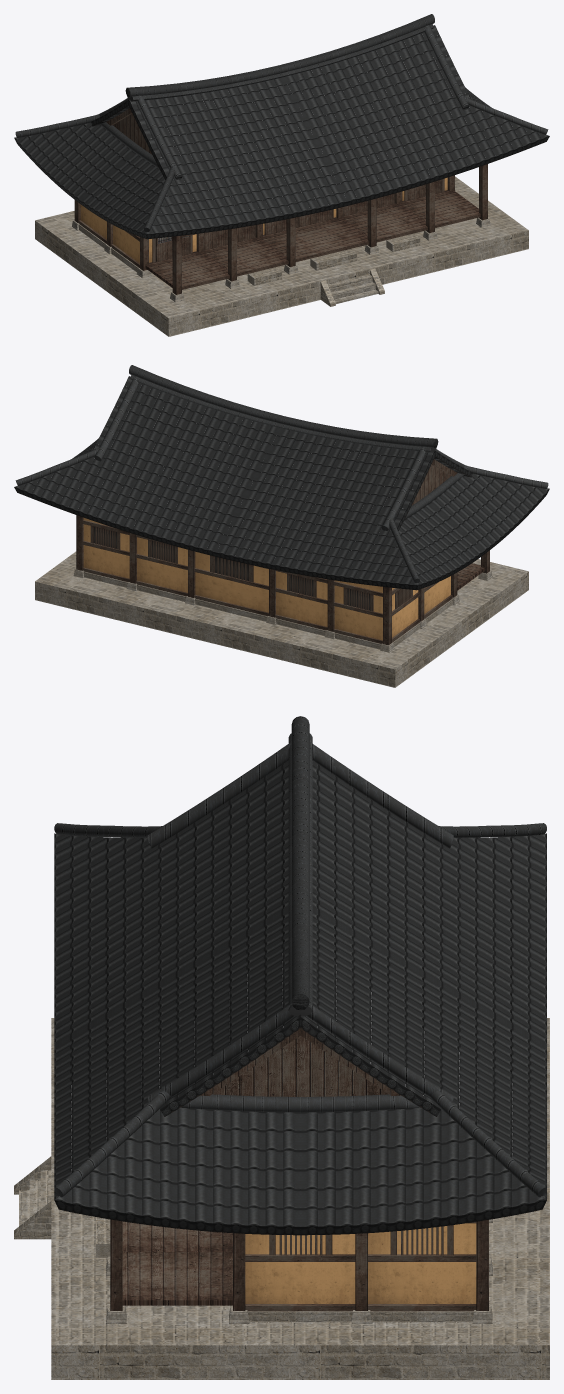
Rendered from KoreanMansion_House_7.FBX.
3 renders of one model, top to bottom at view 1: azimuth 30°, elevation 25°; view 2: azimuth 150°, elevation 25°; view 3: azimuth 270°, elevation 25°, orthographic. The views are drawn at different scales.
Visible parts, largest first — view 1: KoreanMansion_House_7; view 2: KoreanMansion_House_7; view 3: KoreanMansion_House_7.
Boxes of the visible parts, x1,y1,x2,y2 form: KoreanMansion_House_7: (14,14,549,336); KoreanMansion_House_7: (14,365,549,687); KoreanMansion_House_7: (14,716,549,1379).
Size of the model in its own units: 1522 by 697 by 939.
